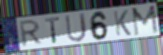6: (89, 10, 111, 41)
K: (112, 9, 133, 37)
M: (131, 4, 159, 37)
R: (19, 19, 44, 49)
T: (44, 16, 62, 44)
U: (64, 12, 88, 43)
